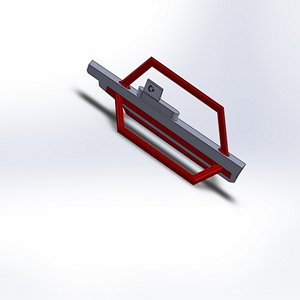submarine: (74, 47, 263, 204)
